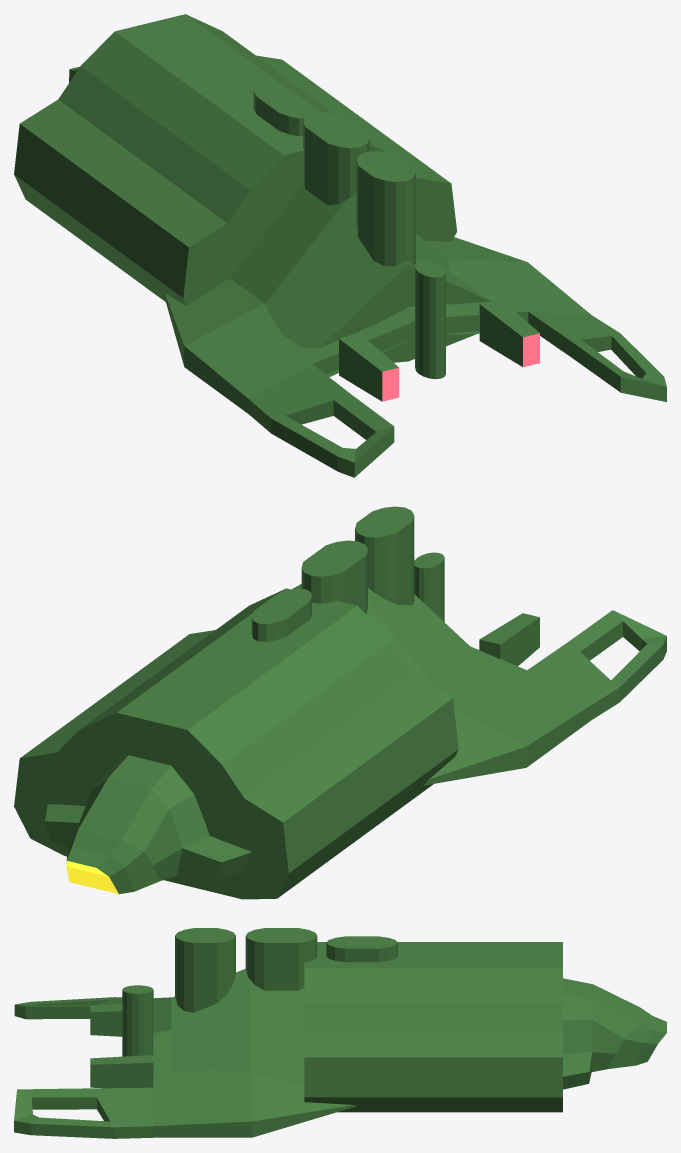
Rendered from KLING_TRANSPORT_I.fbx.
3 views of the same model, one above another, from view 1: azimuth 30°, elevation 25°; view 2: azimuth 150°, elevation 25°; view 3: azimuth 270°, elevation 25° (orthographic). The views are drawn at different scales.
Parts seen in each view (by area): view 1: transport; view 2: transport; view 3: transport.
Part boxes in pixels (x1,y1,x2,y2): transport: (14,14,666,477); transport: (14,506,666,899); transport: (14,928,666,1138).
Size of the model in its own units: 1003 by 501 by 2126.
